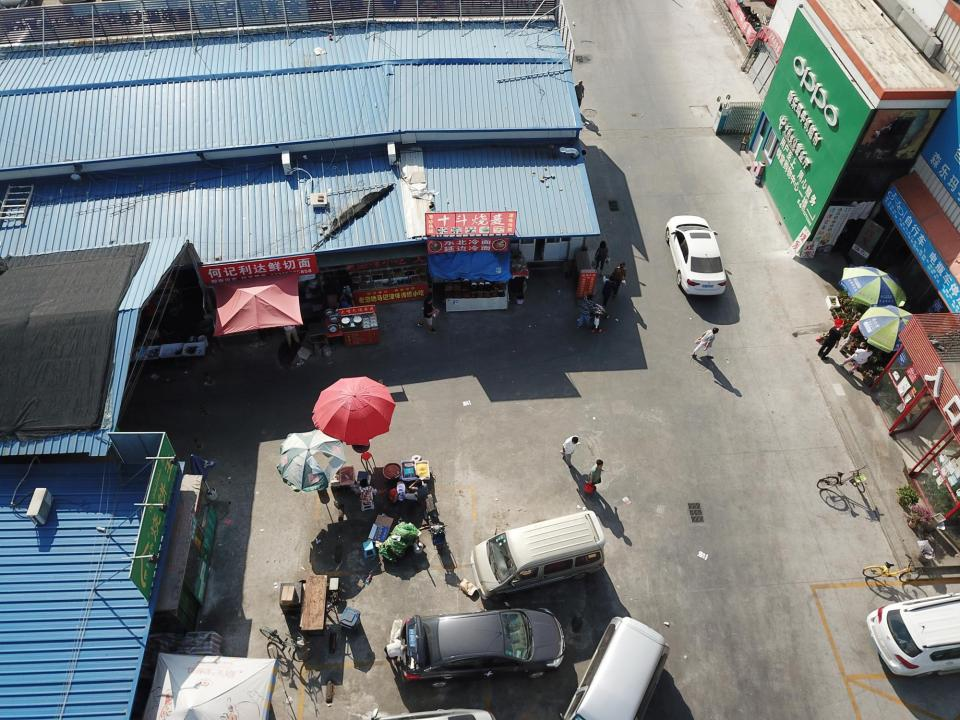car: (394, 606, 568, 684), (866, 594, 960, 678), (666, 216, 734, 298)
van: (469, 509, 608, 599), (564, 608, 674, 719)
